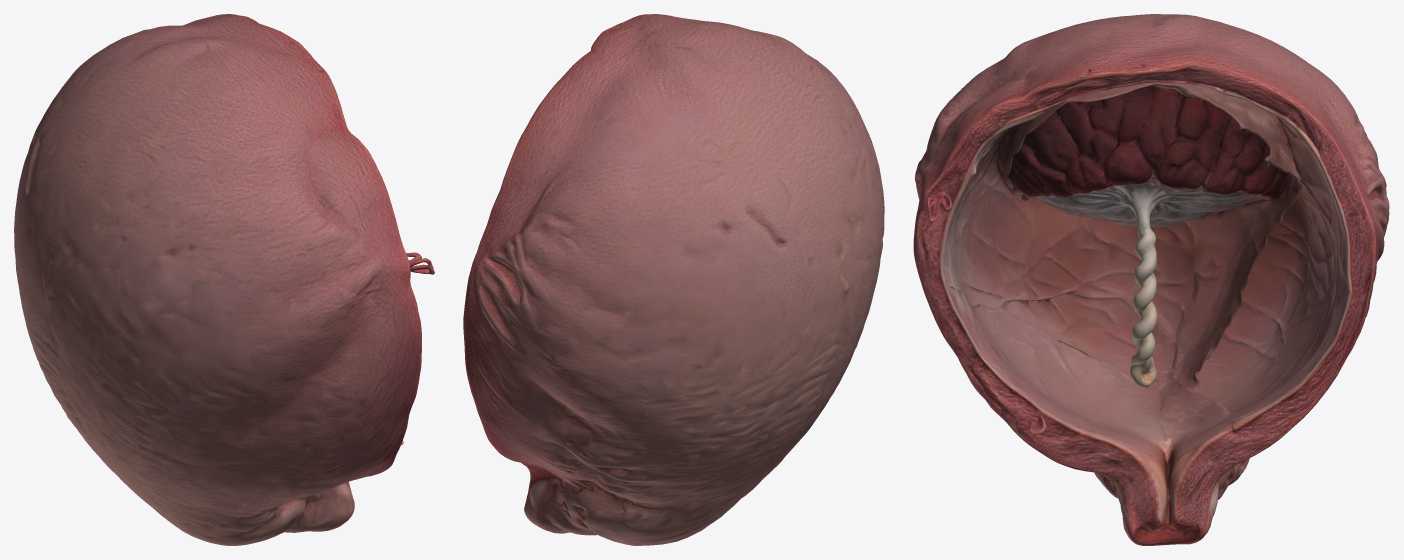
The model's file is gravid-uterus.glb.
The picture shows the model from 3 angles, left to right: view 1: azimuth 30°, elevation 25°; view 2: azimuth 150°, elevation 25°; view 3: azimuth 270°, elevation 25°; orthographic projection. The views are drawn at different scales.
Visible parts, largest first — view 1: tripo_node_e38a2632-da98-4d79-b00b-61a1bdd2817a; view 2: tripo_node_e38a2632-da98-4d79-b00b-61a1bdd2817a; view 3: tripo_node_e38a2632-da98-4d79-b00b-61a1bdd2817a.
Boxes of the visible parts, left/top/right/bottom form: tripo_node_e38a2632-da98-4d79-b00b-61a1bdd2817a: left=14, top=14, right=434, bottom=545; tripo_node_e38a2632-da98-4d79-b00b-61a1bdd2817a: left=463, top=14, right=884, bottom=545; tripo_node_e38a2632-da98-4d79-b00b-61a1bdd2817a: left=913, top=14, right=1389, bottom=545.
Size of the model in its own units: 0.6132 by 0.9996 by 0.9093.
Materials: 1 (1 with a texture image).
